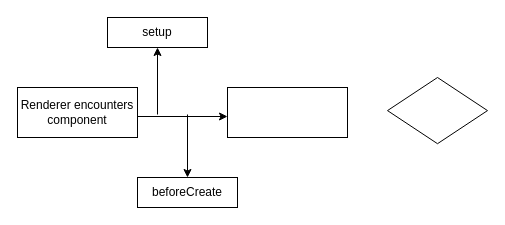
Image size: 505x225. Some labels were removed from this diagram. Each missing label, with the centre of its shape:
Has pre-compiled template?: the point at 437,110
Init Options API: the point at 287,112
